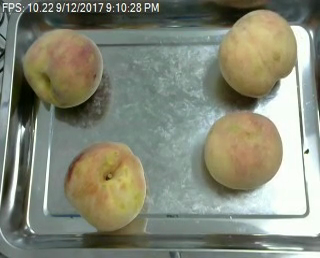Peach: (64, 140, 147, 232), (218, 8, 298, 97), (22, 29, 103, 110), (203, 110, 283, 190)
